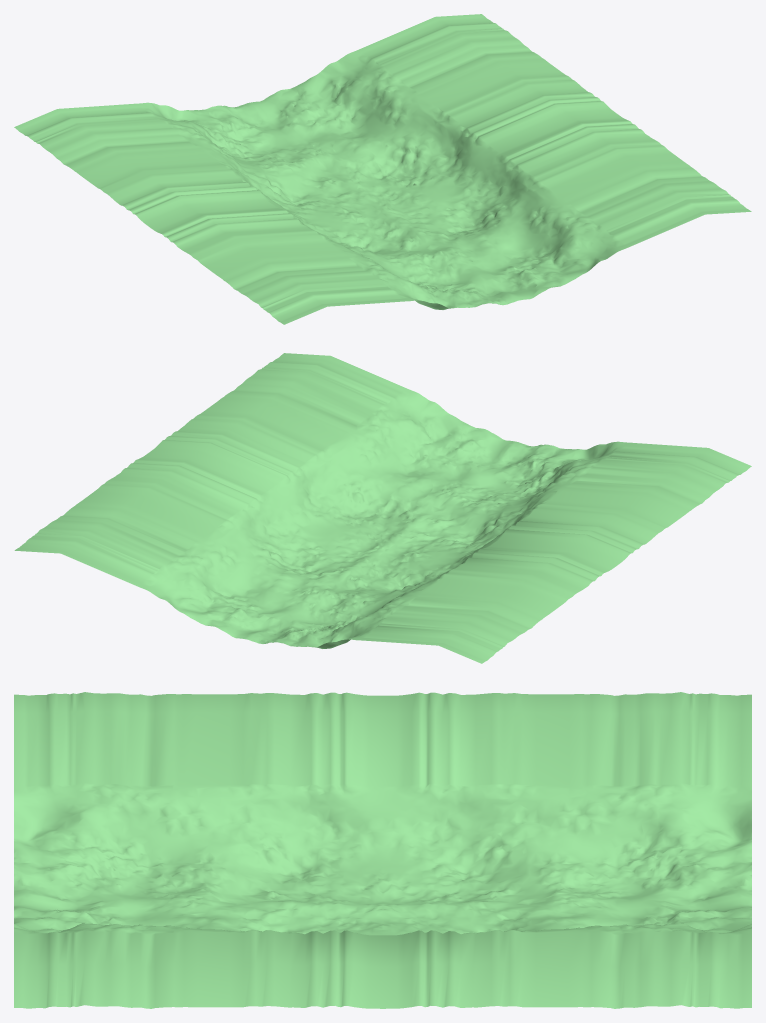
Rendered from vrai_sol.fbx.
The picture shows the model from 3 angles, top to bottom: view 1: azimuth 30°, elevation 25°; view 2: azimuth 150°, elevation 25°; view 3: azimuth 270°, elevation 25°; orthographic projection. The views are drawn at different scales.
Visible parts, largest first — view 1: sol end; view 2: sol end; view 3: sol end.
Part boxes in pixels (x1=…): sol end: x1=14, y1=14, x2=751, y2=324; sol end: x1=14, y1=353, x2=751, y2=663; sol end: x1=14, y1=692, x2=751, y2=1008.
Size of the model in its own units: 421 by 421 by 47.43.
